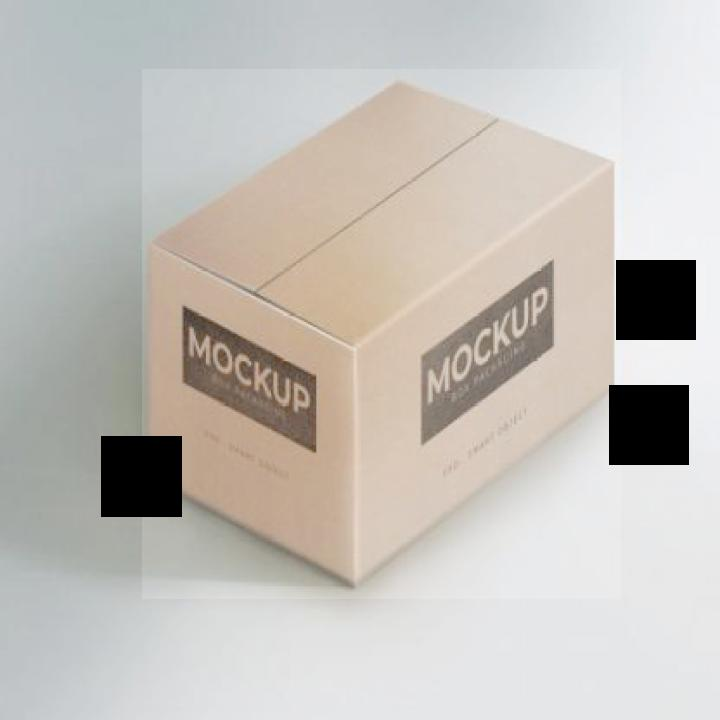box: (142, 69, 621, 599)
